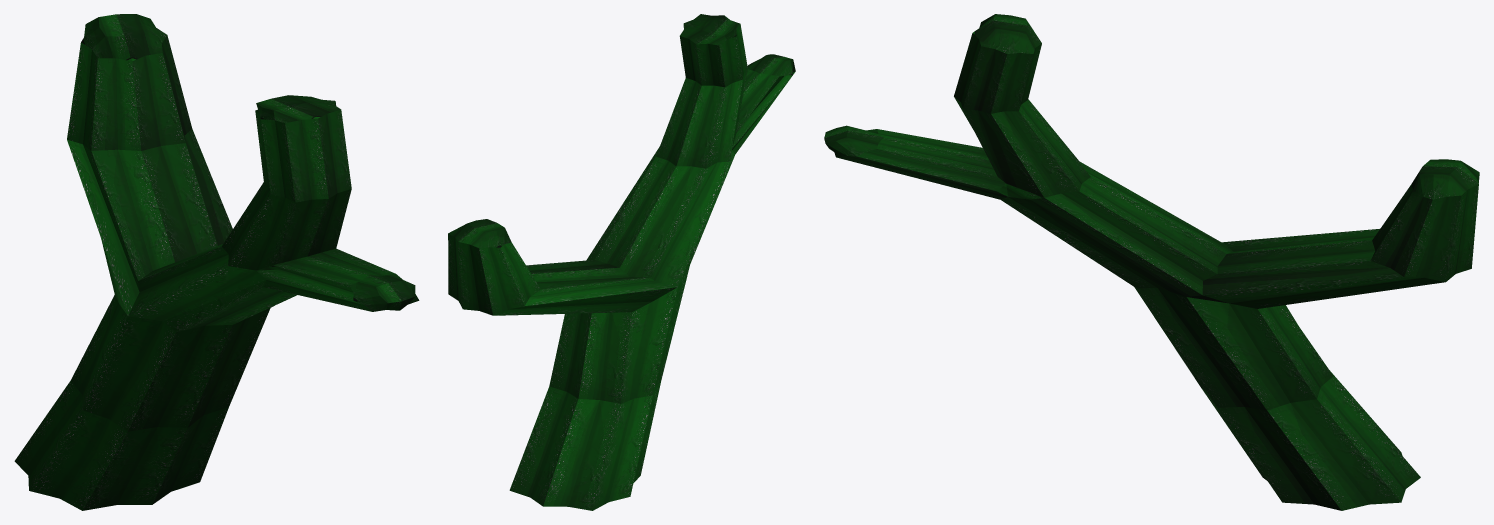
File: cactus3.glb
3 renders of one model, left to right at view 1: azimuth 30°, elevation 25°; view 2: azimuth 150°, elevation 25°; view 3: azimuth 270°, elevation 25°, orthographic. The views are drawn at different scales.
Visible parts, largest first — view 1: triple; view 2: triple; view 3: triple.
Part boxes in pixels (x1,y1,x2,y2): triple: [14, 14, 419, 510]; triple: [448, 14, 795, 510]; triple: [824, 14, 1479, 510].
Bounding box in the file's own units: 0.5657 × 1.4 × 1.84.
Materials: 1 (1 with a texture image).
